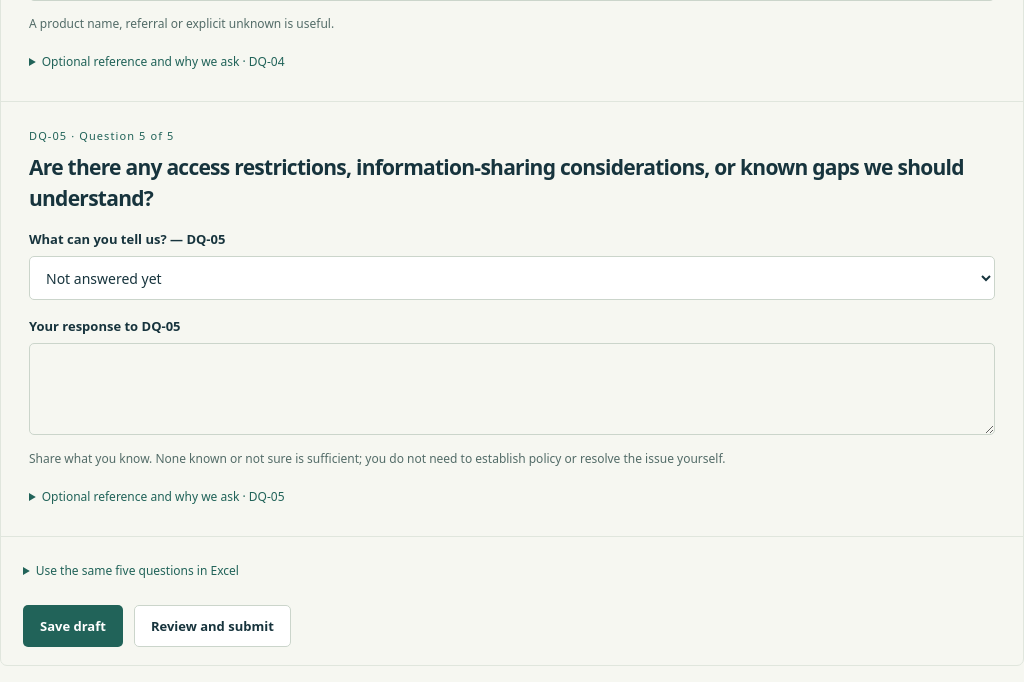
Test case: short discovery request › keeps a native authenticated download and distinguishes preparation from browser completion
The image size is (1024, 682).
(page scrolled)
Click the heading "Use the same five questions in Excel" at coordinates (137, 570), box [36,562,239,579]
(page scrolled)
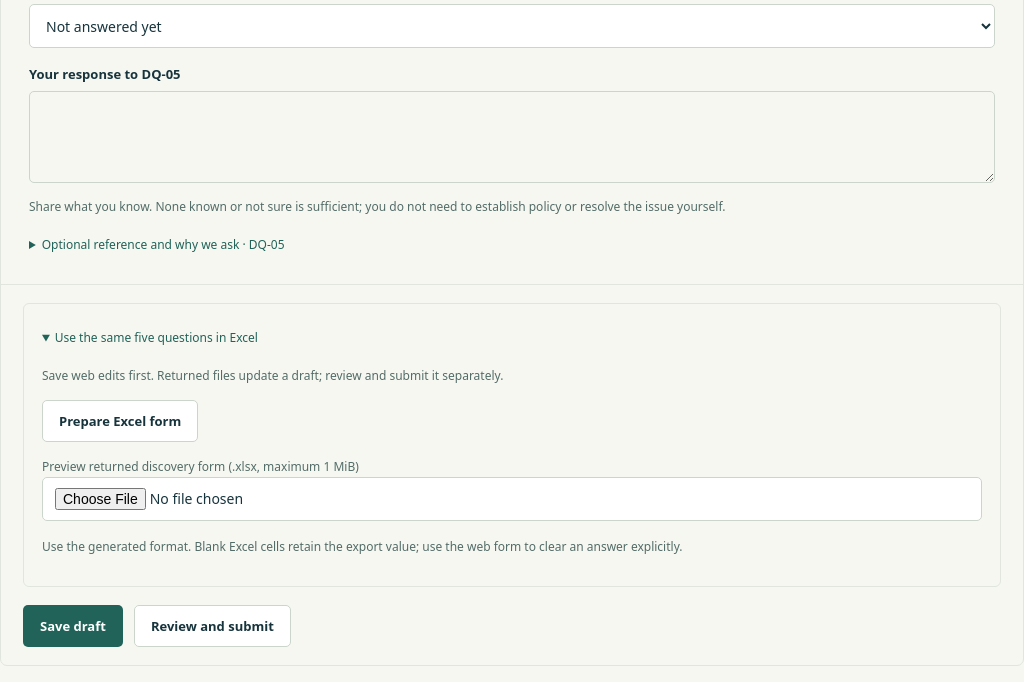
Click the button "Prepare Excel form" at coordinates (120, 421), box [42,400,198,442]
(page scrolled)
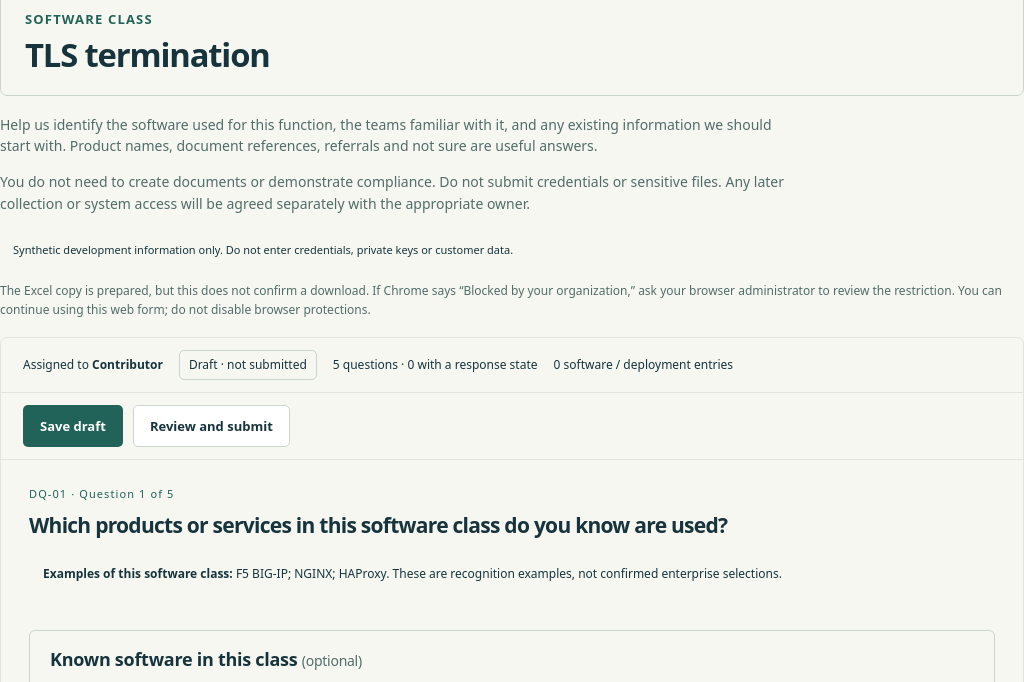
Expected: the text "this does not confirm a download" shows "do not disable browser protections", [0,282,1002,318]
